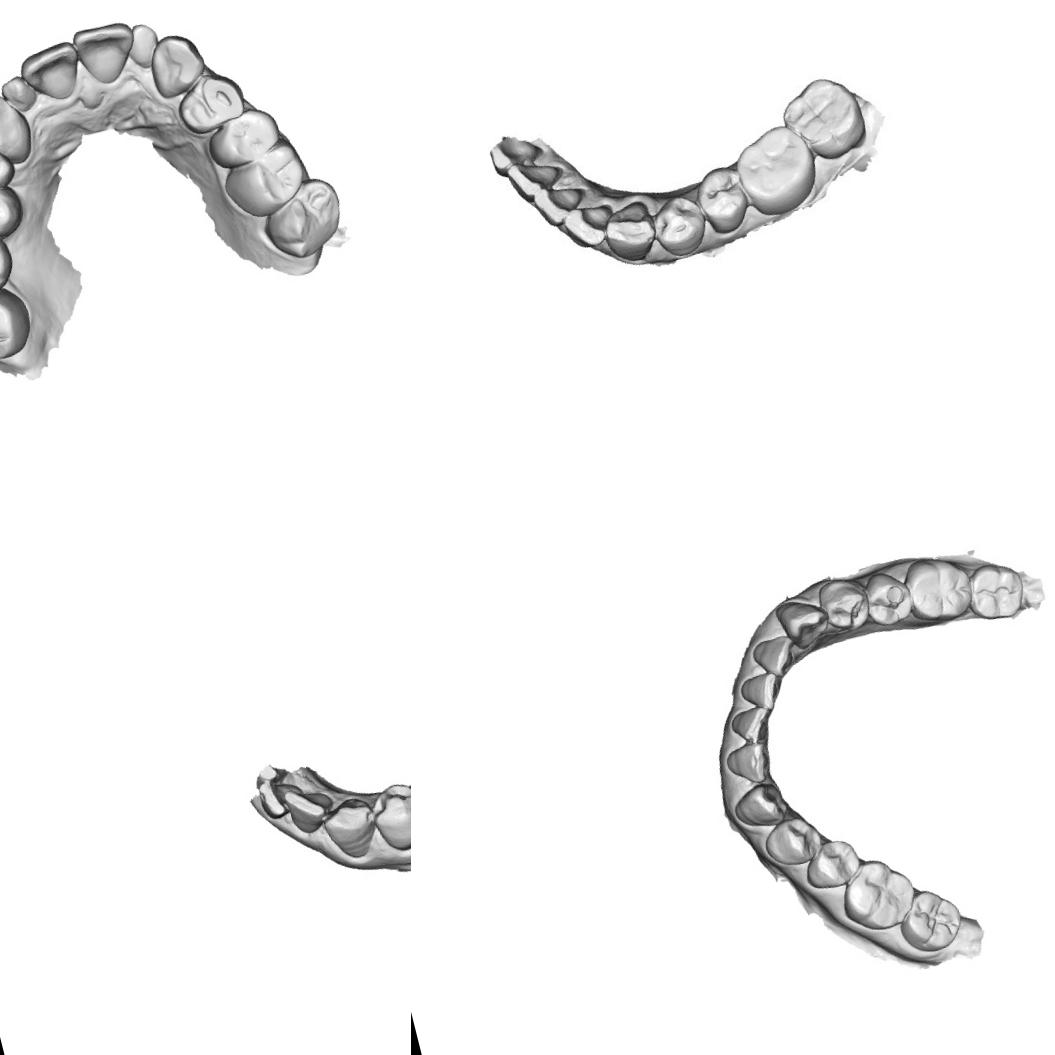canine: (140, 26, 212, 103), (317, 793, 385, 866), (598, 198, 660, 263), (771, 592, 834, 654), (728, 777, 790, 834), (0, 86, 38, 174)
incisor: (70, 14, 144, 92), (14, 37, 90, 111), (280, 776, 344, 838), (530, 175, 594, 229), (248, 771, 308, 824), (503, 153, 565, 199), (747, 632, 801, 683), (119, 16, 165, 73), (722, 738, 772, 789), (562, 202, 612, 252), (735, 668, 786, 716), (726, 702, 777, 748), (0, 69, 43, 119)
molar: (726, 116, 822, 222), (772, 68, 872, 168), (251, 170, 353, 266), (213, 129, 314, 225), (832, 849, 922, 939), (897, 548, 978, 628), (890, 880, 968, 960), (959, 556, 1030, 626), (0, 270, 40, 374), (0, 222, 19, 303)
premolar: (198, 100, 288, 174), (168, 61, 252, 140), (689, 158, 757, 238), (646, 192, 710, 260), (758, 810, 826, 872), (814, 572, 875, 638), (858, 564, 917, 630), (364, 776, 411, 856), (799, 835, 864, 892), (0, 170, 30, 251), (0, 137, 19, 196)
